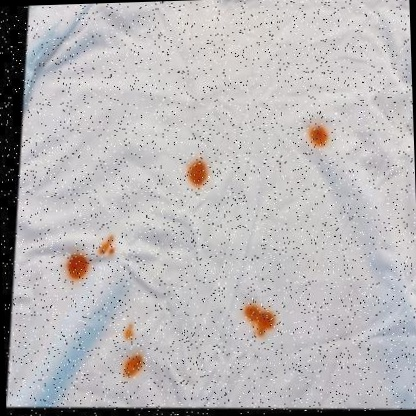kimchi: (243, 301, 284, 339), (117, 350, 150, 381), (185, 156, 212, 191), (299, 121, 336, 146), (66, 250, 87, 281), (99, 234, 118, 258), (123, 322, 138, 340)
